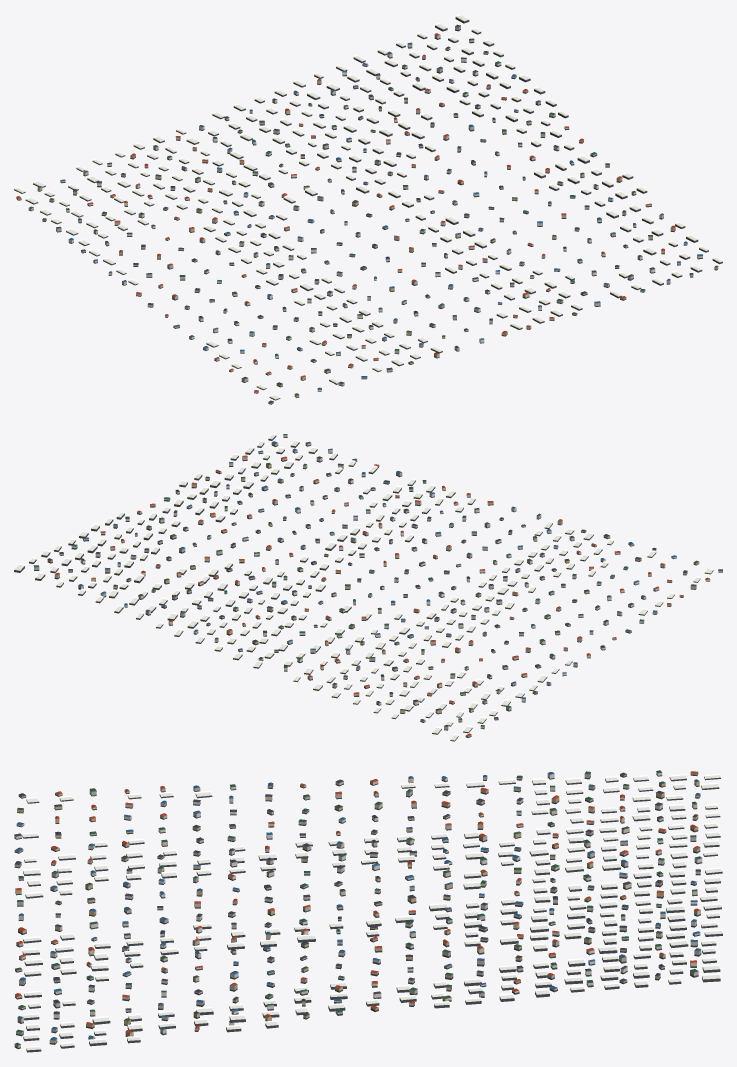
File: buildings_T_W02_N05.glb
3 views of the same model, one above another, from view 1: azimuth 30°, elevation 25°; view 2: azimuth 150°, elevation 25°; view 3: azimuth 270°, elevation 25° (orthographic). The views are drawn at different scales.
Parts seen in each view (by area): view 1: T_W02_N05_slope_seating_foundations, T_W02_N05_roofs_agri_greenhouse_arch, T_W02_N05_walls_wall_french_ochre_villa, T_W02_N05_walls_wall_pastel_sand_gray, T_W02_N05_walls_wall_dalat_cream_stucco, T_W02_N05_walls_wall_modern_warm_white, T_W02_N05_roofs_roof_slate_French_villa_hip, T_W02_N05_roofs_roof_terracotta_gable, T_W02_N05_roofs_roof_pine_green_hip, T_W02_N05_roofs_roof_highland_blue_gable; view 2: T_W02_N05_slope_seating_foundations, T_W02_N05_roofs_agri_greenhouse_arch, T_W02_N05_walls_wall_pastel_sand_gray, T_W02_N05_walls_wall_french_ochre_villa, T_W02_N05_walls_wall_modern_warm_white, T_W02_N05_walls_wall_dalat_cream_stucco, T_W02_N05_roofs_roof_slate_French_villa_hip, T_W02_N05_roofs_roof_terracotta_gable, T_W02_N05_roofs_roof_pine_green_hip, T_W02_N05_roofs_roof_highland_blue_gable; view 3: T_W02_N05_slope_seating_foundations, T_W02_N05_roofs_agri_greenhouse_arch, T_W02_N05_walls_wall_french_ochre_villa, T_W02_N05_walls_wall_pastel_sand_gray, T_W02_N05_walls_wall_dalat_cream_stucco, T_W02_N05_walls_wall_modern_warm_white, T_W02_N05_roofs_roof_slate_French_villa_hip, T_W02_N05_roofs_roof_pine_green_hip, T_W02_N05_roofs_roof_terracotta_gable, T_W02_N05_roofs_roof_highland_blue_gable.
Part boxes in pixels (x1,y1,x2,y2): T_W02_N05_slope_seating_foundations: (14, 16, 722, 404); T_W02_N05_roofs_agri_greenhouse_arch: (14, 14, 722, 399); T_W02_N05_walls_wall_french_ochre_villa: (16, 40, 675, 397); T_W02_N05_walls_wall_pastel_sand_gray: (56, 26, 693, 403); T_W02_N05_walls_wall_dalat_cream_stucco: (60, 35, 718, 392); T_W02_N05_walls_wall_modern_warm_white: (28, 48, 655, 390); T_W02_N05_roofs_roof_slate_French_villa_hip: (42, 38, 654, 402); T_W02_N05_roofs_roof_terracotta_gable: (16, 33, 675, 392); T_W02_N05_roofs_roof_pine_green_hip: (29, 24, 718, 395); T_W02_N05_roofs_roof_highland_blue_gable: (38, 42, 702, 389); T_W02_N05_slope_seating_foundations: (14, 435, 722, 741); T_W02_N05_roofs_agri_greenhouse_arch: (14, 433, 713, 740); T_W02_N05_walls_wall_pastel_sand_gray: (34, 443, 722, 710); T_W02_N05_walls_wall_french_ochre_villa: (47, 456, 699, 737); T_W02_N05_walls_wall_modern_warm_white: (68, 457, 676, 728); T_W02_N05_walls_wall_dalat_cream_stucco: (54, 435, 710, 721); T_W02_N05_roofs_roof_slate_French_villa_hip: (47, 456, 722, 718); T_W02_N05_roofs_roof_terracotta_gable: (55, 455, 710, 736); T_W02_N05_roofs_roof_pine_green_hip: (33, 434, 698, 726); T_W02_N05_roofs_roof_highland_blue_gable: (78, 441, 676, 726); T_W02_N05_slope_seating_foundations: (14, 773, 722, 1052); T_W02_N05_roofs_agri_greenhouse_arch: (21, 773, 722, 1050); T_W02_N05_walls_wall_french_ochre_villa: (14, 772, 699, 1036); T_W02_N05_walls_wall_pastel_sand_gray: (14, 772, 701, 1034); T_W02_N05_walls_wall_dalat_cream_stucco: (14, 777, 700, 1047); T_W02_N05_walls_wall_modern_warm_white: (14, 772, 702, 1018); T_W02_N05_roofs_roof_slate_French_villa_hip: (14, 772, 700, 1022); T_W02_N05_roofs_roof_pine_green_hip: (15, 770, 701, 1045); T_W02_N05_roofs_roof_terracotta_gable: (15, 771, 700, 1033); T_W02_N05_roofs_roof_highland_blue_gable: (15, 772, 700, 1040).
Size of the model in its own units: 1735 by 311 by 1755.
